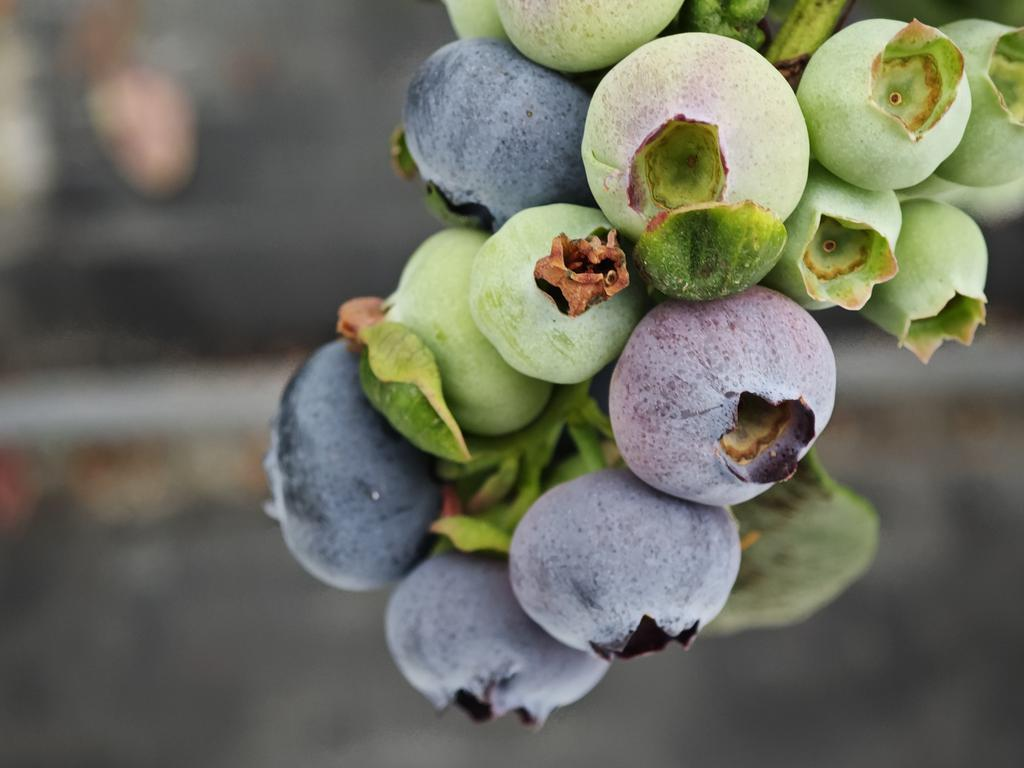RipeBlueBerry: (507, 465, 748, 666)
Semi-RipeBlueBerry: (607, 279, 842, 509)
UnripeBlueBerry: (579, 28, 816, 256)
